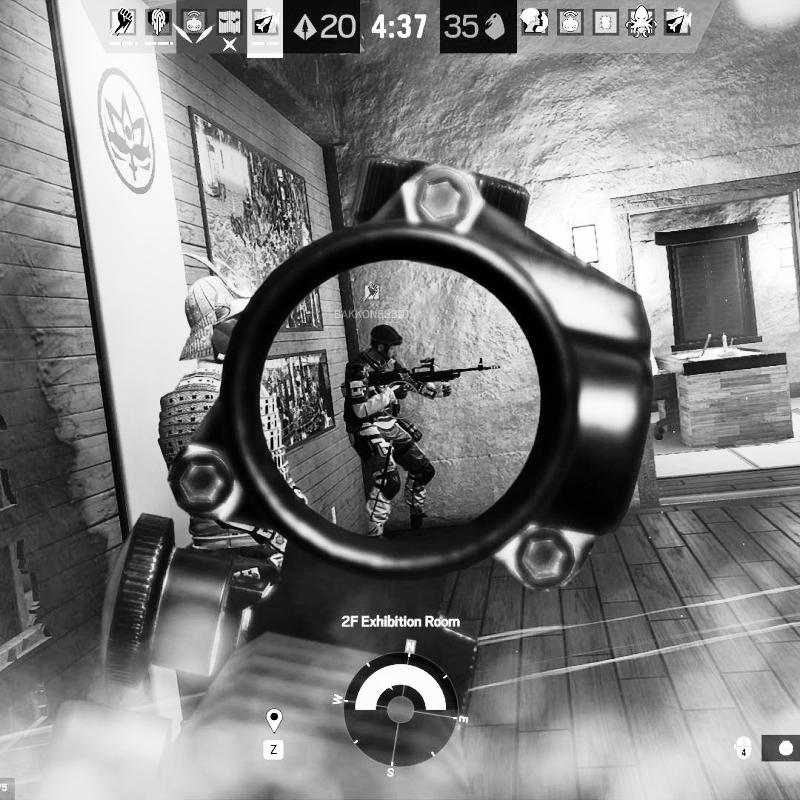Character: (343, 324, 498, 538)
Friend_label: (334, 280, 412, 321)
Head: (369, 323, 403, 360)
